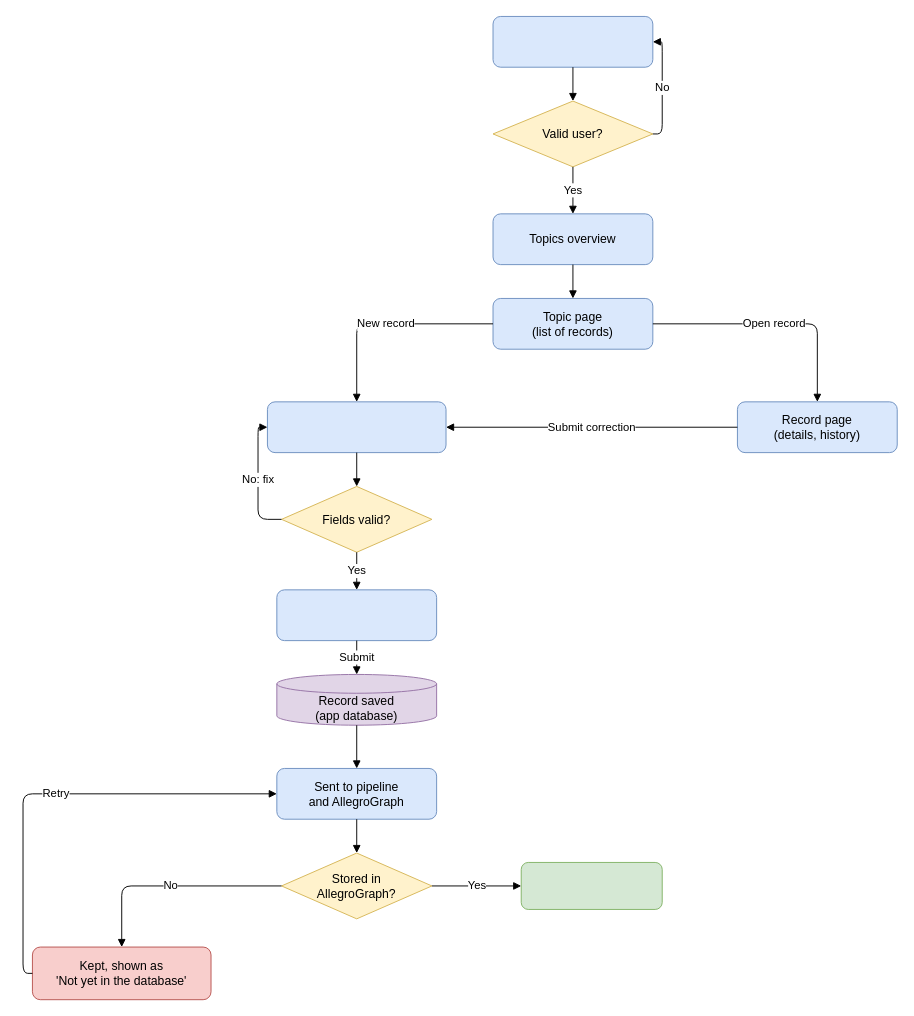
This 914x1016 diagram has some shape labels left out. Each missing label, with the centre of its shape:
Log in: pixel 572 41
Record form (new record or correction): pixel 356 427
Review and confirm: pixel 356 615
Shown as saved: pixel 591 885
